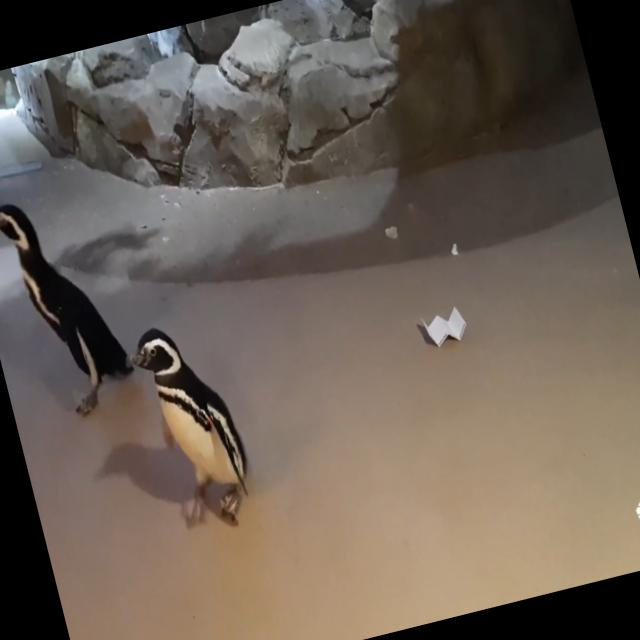penguin: (0, 181, 143, 423), (128, 314, 264, 538)
